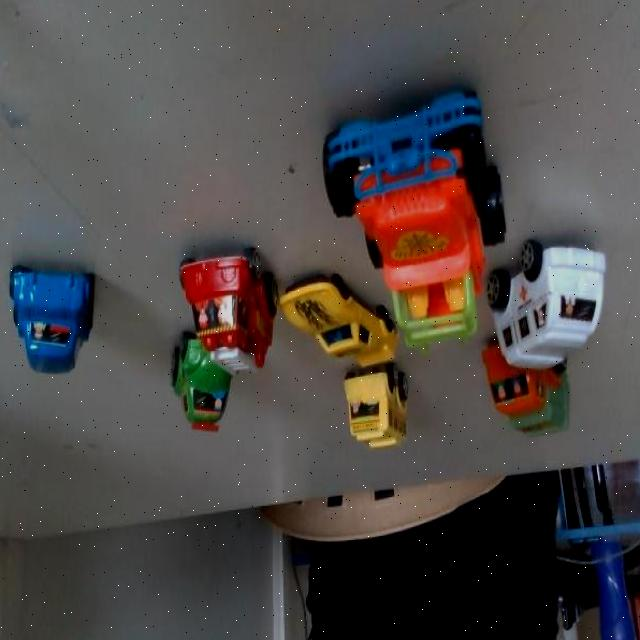car: (317, 72, 493, 291), (0, 226, 111, 388), (280, 262, 398, 376), (178, 237, 270, 374), (502, 247, 606, 358), (480, 341, 566, 444), (165, 337, 233, 429), (336, 368, 398, 458)
